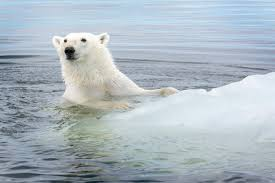PolarBear: (40, 25, 163, 113)
